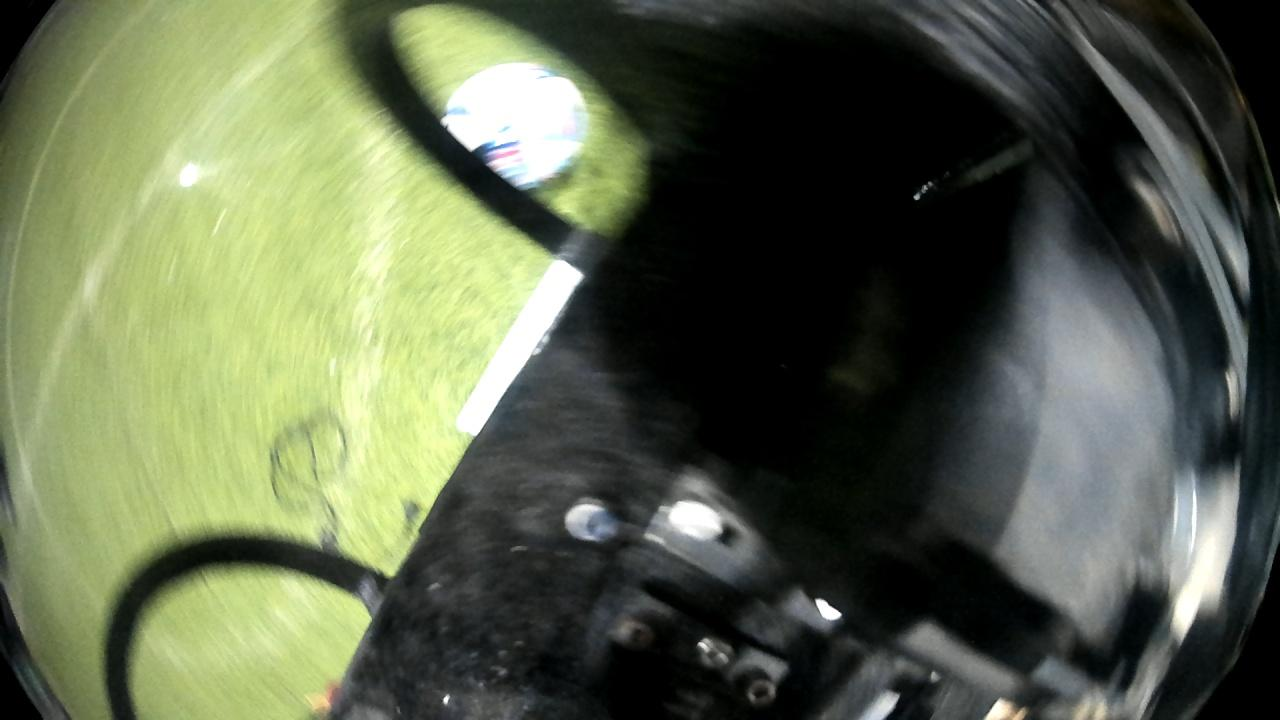ball: (440, 53, 595, 207)
